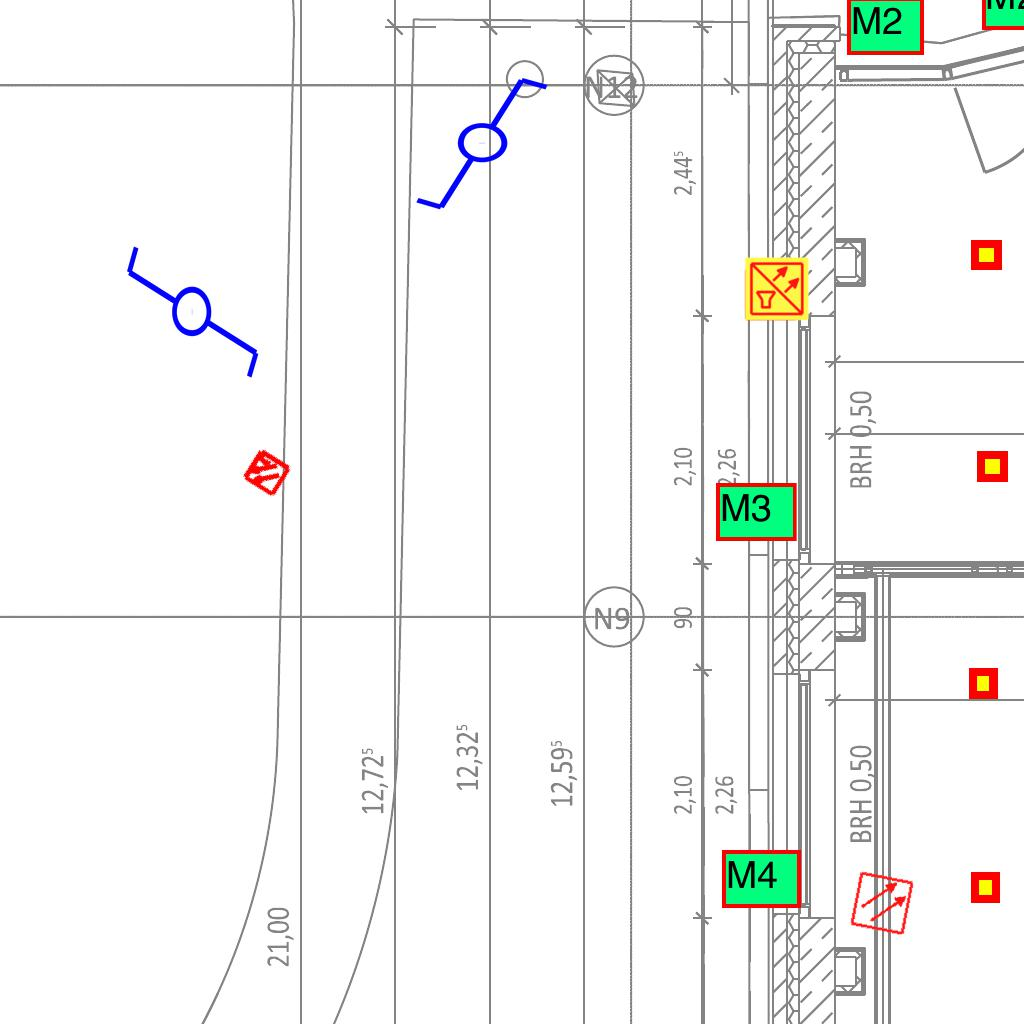OKW_Multisensormelder_(Kombination_optischer_Rauch-Kahlenmonoxid_Waerme-Melder): (744, 256, 810, 322)
OT_Multisensormelder_(Kombination_RMO_WMD): (227, 433, 305, 511)
RMO_Rauchmelder_optischer: (849, 870, 915, 936)
Wechselschalter: (412, 73, 569, 217), (122, 225, 266, 382)
